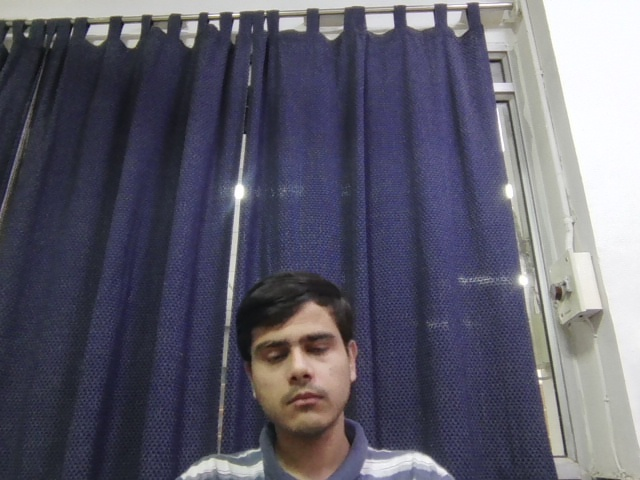face: (235, 275, 364, 436)
